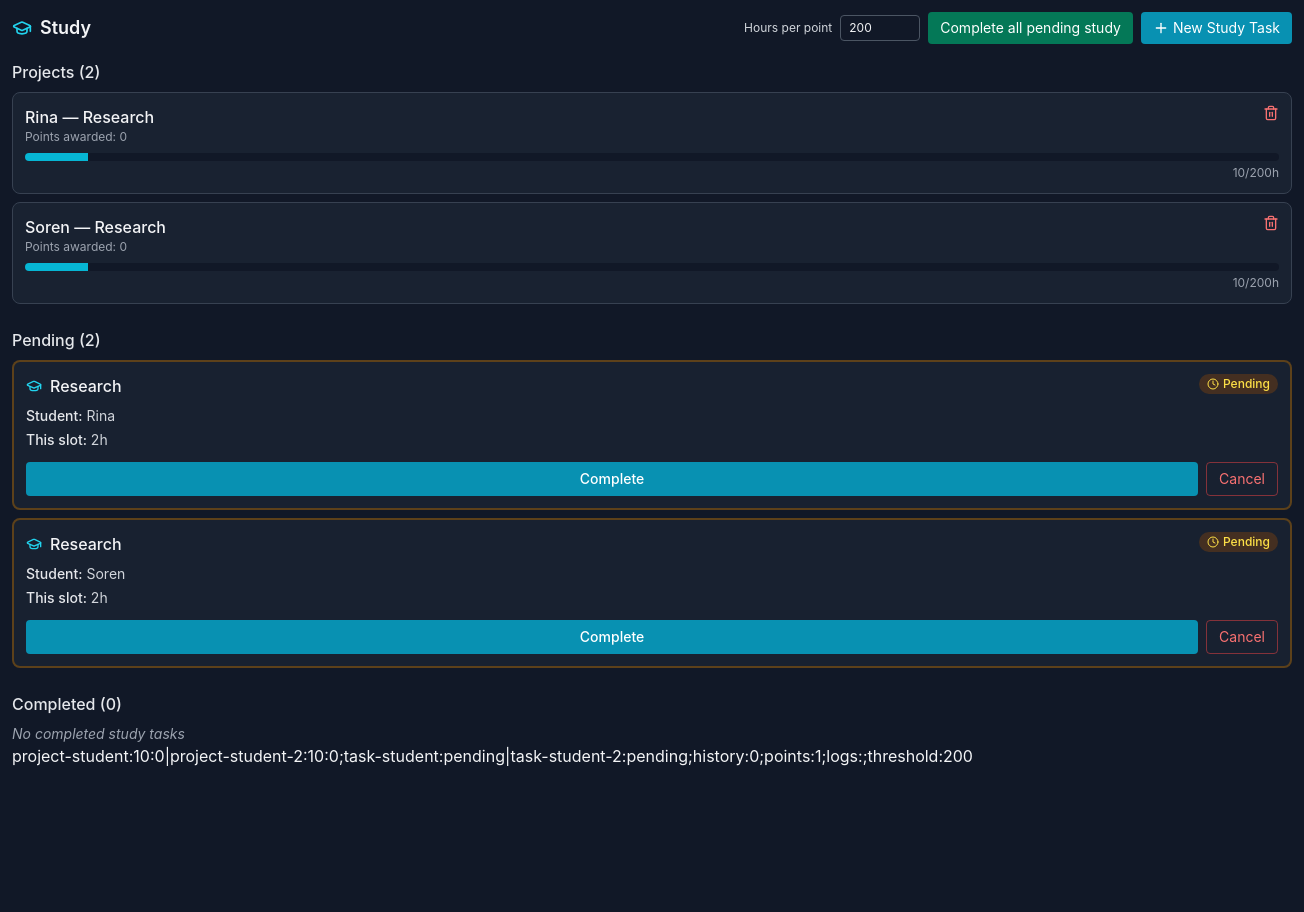
Scenario: StudyActivity › bulk completes every pending task
Click the button with test id "complete-all-button".
click(1031, 28)  # box [928,12,1133,44]
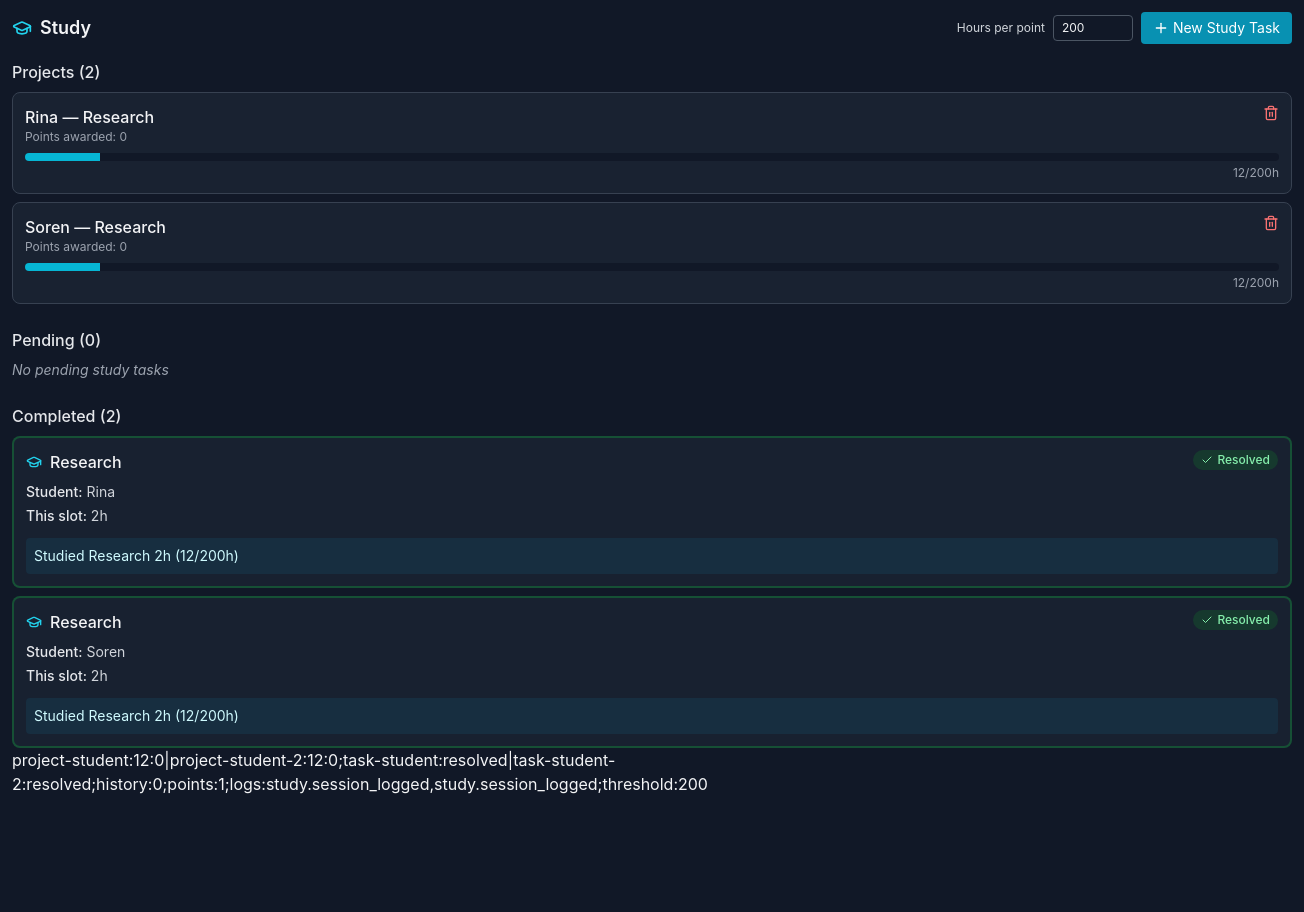
Expected: the text with test id "observer" shows "project-student:12:0", [12,750,338,770]
Expected: the text with test id "observer" shows "project-student-2:12:0", [12,750,338,770]
Expected: the text with test id "observer" shows "task-student:resolved", [12,750,615,794]
